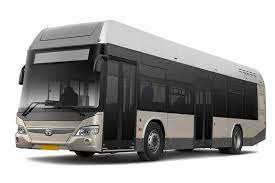bus: (3, 21, 270, 165)
